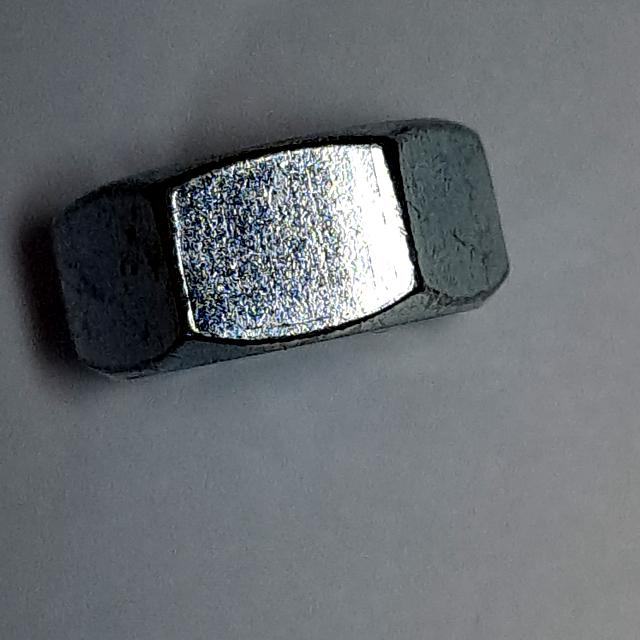Side_Excellent: (40, 106, 521, 399)
